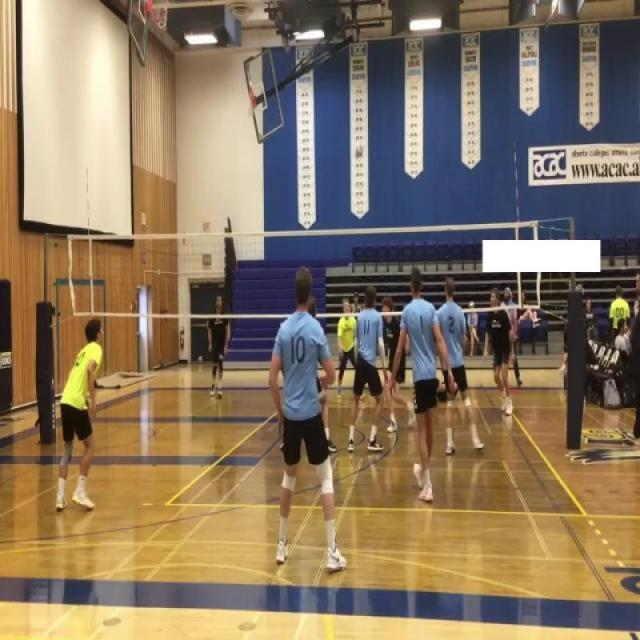volleyball: (354, 140, 365, 159), (198, 354, 204, 364)
